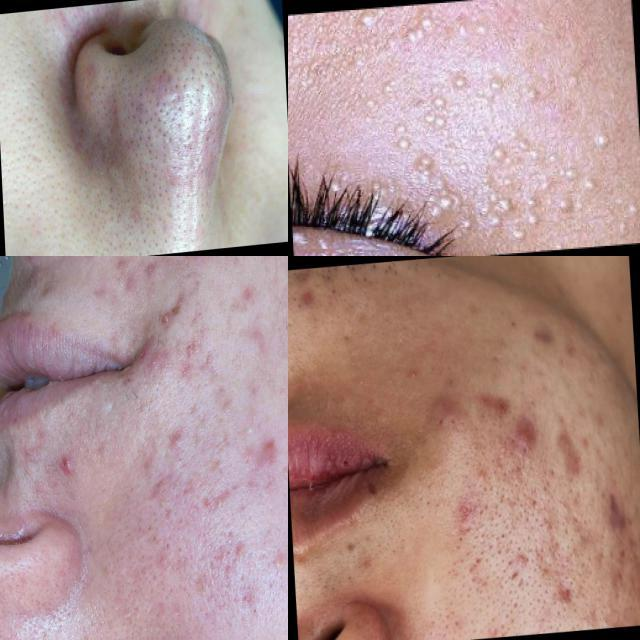Pimples: (458, 184, 548, 251), (484, 133, 540, 191), (480, 68, 552, 113), (590, 482, 636, 548), (352, 72, 404, 130), (551, 156, 601, 216), (415, 148, 456, 221), (378, 8, 441, 54), (50, 431, 95, 494), (452, 12, 502, 57), (84, 193, 118, 250), (476, 386, 518, 432), (428, 380, 467, 426), (525, 312, 563, 359), (509, 408, 544, 454), (160, 32, 200, 72), (558, 423, 584, 482), (160, 418, 198, 456), (418, 90, 452, 132), (177, 152, 211, 194), (448, 490, 486, 527), (115, 164, 151, 203), (145, 72, 180, 112), (170, 199, 201, 244), (175, 110, 205, 150), (90, 78, 120, 118), (153, 150, 177, 198), (180, 71, 208, 112), (142, 201, 170, 241), (554, 567, 578, 612), (128, 122, 156, 160), (207, 101, 230, 146), (390, 116, 416, 155), (158, 295, 182, 335), (152, 111, 175, 148), (103, 126, 127, 161), (122, 82, 146, 116), (204, 66, 227, 100), (589, 124, 616, 152), (146, 343, 164, 382), (23, 256, 50, 278), (476, 460, 494, 490), (452, 70, 470, 95), (404, 356, 419, 386), (87, 119, 100, 149), (128, 203, 142, 226), (94, 165, 112, 181)
